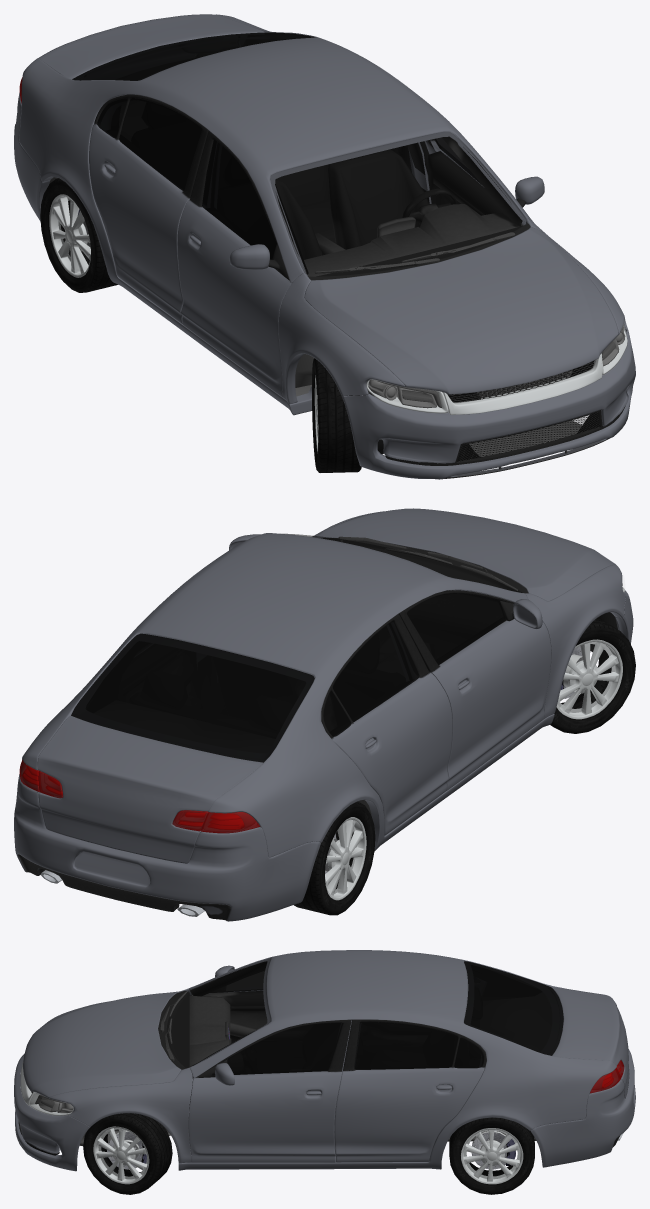
Rendered from car.glb.
3 views of the same model, one above another, from view 1: azimuth 30°, elevation 25°; view 2: azimuth 150°, elevation 25°; view 3: azimuth 270°, elevation 25° (orthographic). The views are drawn at different scales.
Parts seen in each view (by area): view 1: sedan-unibody_65, hood_60, windshield_102, bumper-front_8, door-front-r_17, door-rear-r_23, fender-front-r_33, front-seat-backrest_39, dashboard_13, trunk_99, door-rear-window-glass-r_27, door-front-window-glass-r_19 (+21 smaller); view 2: sedan-unibody_65, glass-rear_42, trunk_99, bumper-rear_10, door-front-r_17, door-rear-r_23, hood_60, fender-front-r_33, door-rear-window-glass-r_27, door-front-window-glass-r_19, generic-wheel.001_126, generic-tire-low.001_125 (+8 smaller); view 3: sedan-unibody_65, door-front-l_16, door-rear-l_22, hood_60, windshield_102, glass-rear_42, fender-front-l_32, bumper-rear_10, trunk_99, door-rear-window-glass-l_26, door-front-window-glass-l_18, bumper-front_8 (+14 smaller).
Boxes of the visible parts, <box> form: sedan-unibody_65: <box>19,14,533,415</box>; hood_60: <box>304,227,618,394</box>; windshield_102: <box>270,132,527,276</box>; bumper-front_8: <box>342,328,635,479</box>; door-front-r_17: <box>177,131,291,396</box>; door-rear-r_23: <box>89,94,208,323</box>; fender-front-r_33: <box>278,273,404,404</box>; front-seat-backrest_39: <box>328,149,428,249</box>; dashboard_13: <box>304,204,520,276</box>; trunk_99: <box>39,14,264,79</box>; door-rear-window-glass-r_27: <box>119,98,201,190</box>; door-front-window-glass-r_19: <box>202,139,276,259</box>; sedan-unibody_65: <box>20,533,554,857</box>; glass-rear_42: <box>71,633,314,762</box>; trunk_99: <box>37,715,263,863</box>; bumper-rear_10: <box>14,774,320,921</box>; door-front-r_17: <box>398,590,551,790</box>; door-rear-r_23: <box>321,614,452,835</box>; hood_60: <box>312,508,615,601</box>; fender-front-r_33: <box>525,564,625,718</box>; door-rear-window-glass-r_27: <box>333,621,419,721</box>; door-front-window-glass-r_19: <box>407,593,505,664</box>; generic-wheel.001_126: <box>556,639,622,719</box>; generic-tire-low.001_125: <box>550,617,635,733</box>; sedan-unibody_65: <box>178,950,621,1170</box>; door-front-l_16: <box>188,1019,351,1162</box>; door-rear-l_22: <box>334,1019,486,1162</box>; hood_60: <box>23,991,181,1098</box>; windshield_102: <box>167,958,270,1068</box>; glass-rear_42: <box>464,961,563,1055</box>; fender-front-l_32: <box>49,1067,192,1163</box>; bumper-rear_10: <box>530,1049,635,1167</box>; trunk_99: <box>552,987,629,1098</box>; door-rear-window-glass-l_26: <box>354,1022,457,1069</box>; door-front-window-glass-l_18: <box>227,1023,342,1074</box>; bumper-front_8: <box>14,1054,89,1171</box>.
Size of the model in its own units: 2.16 by 1.5 by 4.98.
Materials: 23 (11 with a texture image).
